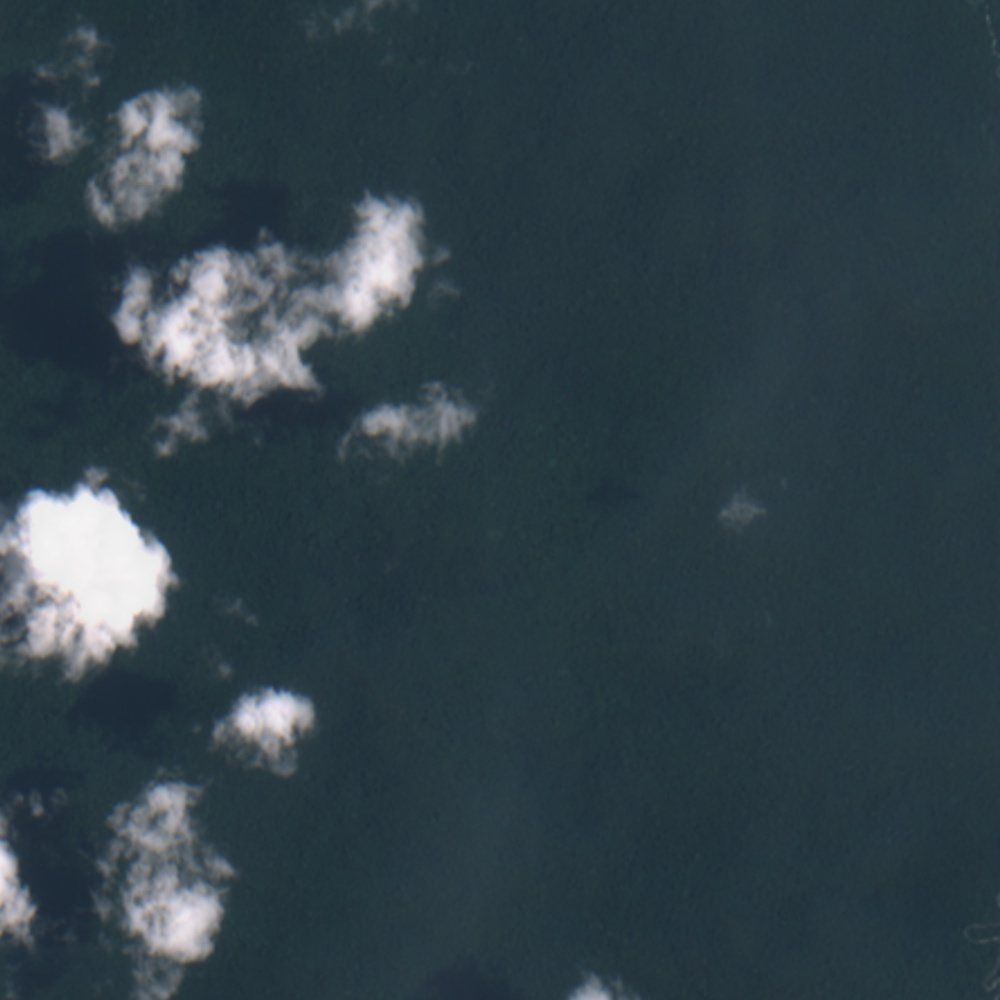illegal: (975, 877, 999, 903), (966, 619, 996, 639)
